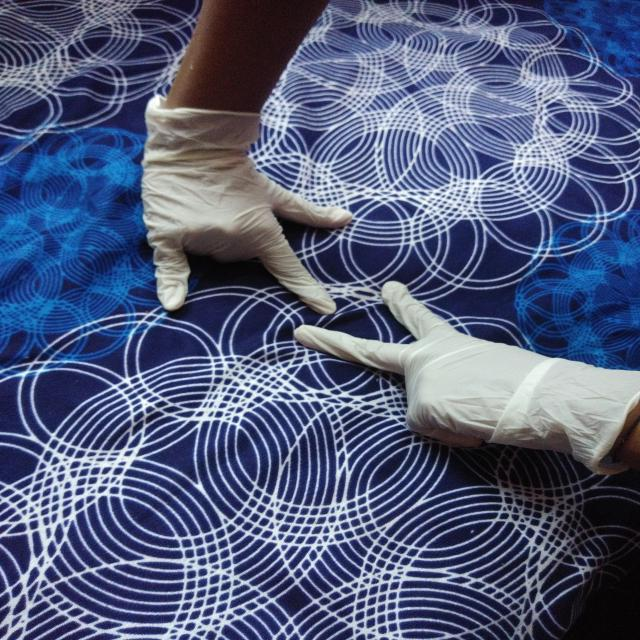gloved_hand: (291, 276, 637, 478), (132, 87, 359, 320)
